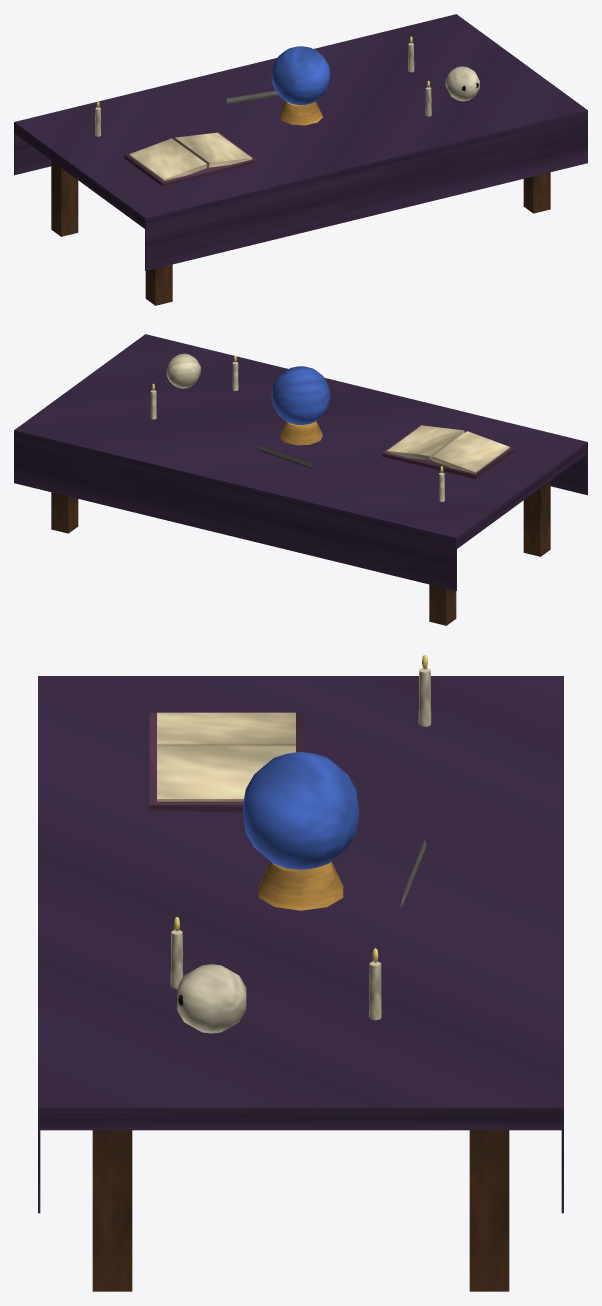
Rendered from scrying_table.obj.
3 views of the same model, one above another, from view 1: azimuth 30°, elevation 25°; view 2: azimuth 150°, elevation 25°; view 3: azimuth 270°, elevation 25° (orthographic). The views are drawn at different scales.
Bounding box in the file's own units: 20.6 × 7.6 × 10.61.
1 material, 1 textured.
